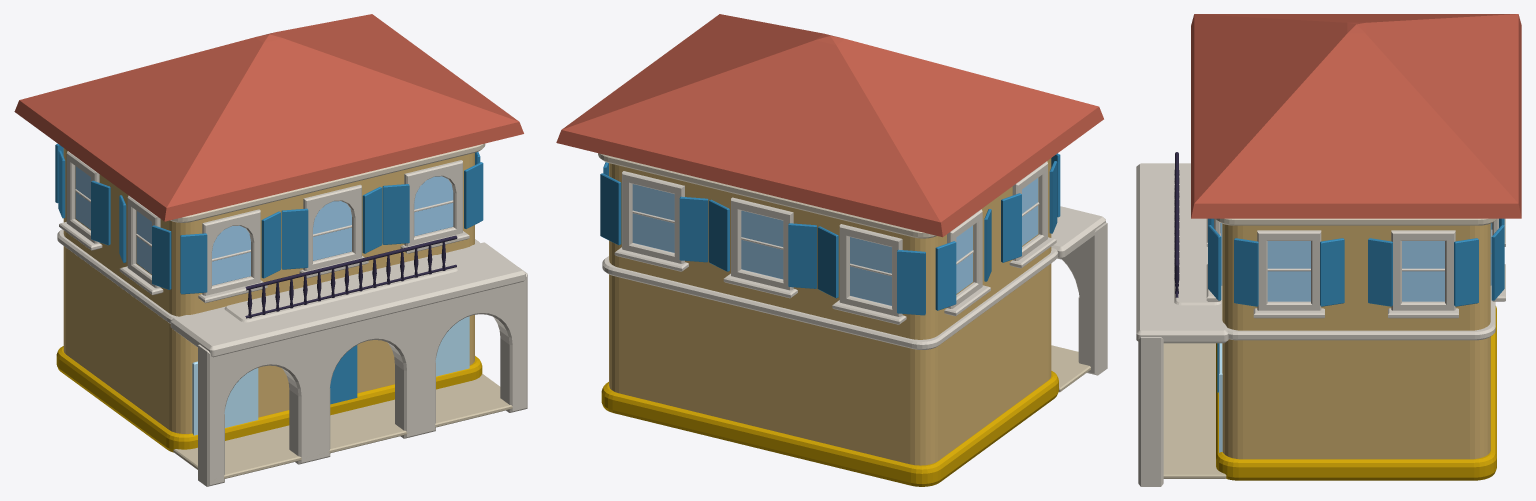
The model's file is casa_m.glb.
3 renders of one model, left to right at view 1: azimuth 30°, elevation 25°; view 2: azimuth 150°, elevation 25°; view 3: azimuth 270°, elevation 25°, orthographic. The views are drawn at different scales.
Parts seen in each view (by area): view 1: casa_m_corpo, casa_m_vidro; view 2: casa_m_corpo, casa_m_vidro; view 3: casa_m_corpo, casa_m_vidro.
Boxes of the visible parts, box(x1,y1,x2,y2) form: casa_m_corpo: box(14, 14, 527, 486); casa_m_vidro: box(75, 166, 469, 435); casa_m_corpo: box(556, 14, 1107, 486); casa_m_vidro: box(632, 178, 1038, 305); casa_m_corpo: box(1136, 14, 1521, 486); casa_m_vidro: box(1219, 223, 1491, 452).
Bounding box in the file's own units: 10.91 × 9.91 × 9.19.
